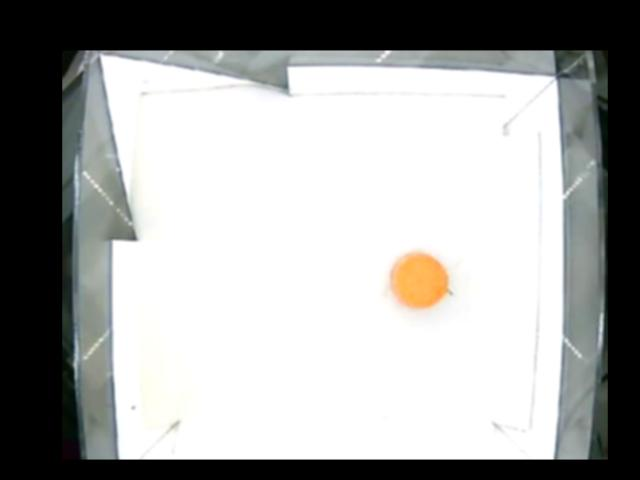Carrot: (390, 249, 448, 312)
